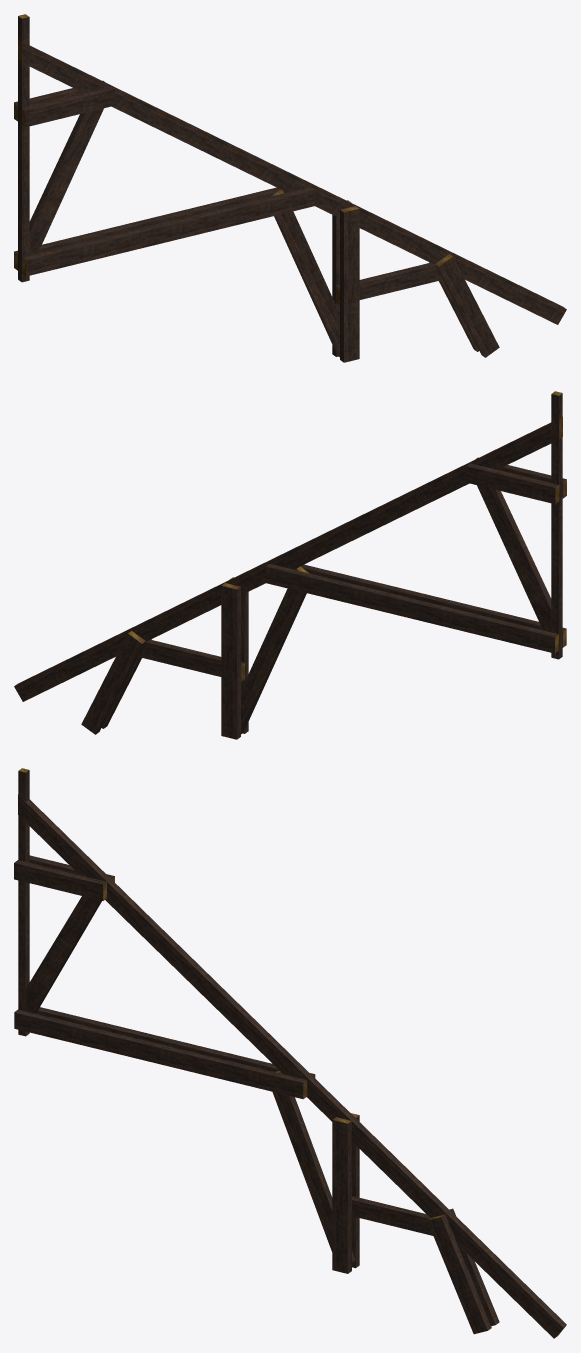
The model's file is attic_spant.DAE.
3 renders of one model, top to bottom at view 1: azimuth 30°, elevation 25°; view 2: azimuth 150°, elevation 25°; view 3: azimuth 330°, elevation 25°, orthographic.
Visible parts, largest first — view 1: Box014; view 2: Box014; view 3: Box014.
Boxes of the visible parts, x1,y1,x2,y2 form: Box014: (14, 14, 566, 362); Box014: (14, 391, 566, 739); Box014: (14, 768, 566, 1338).
Bounding box in the file's own units: 13.95 × 10.96 × 0.5258.
